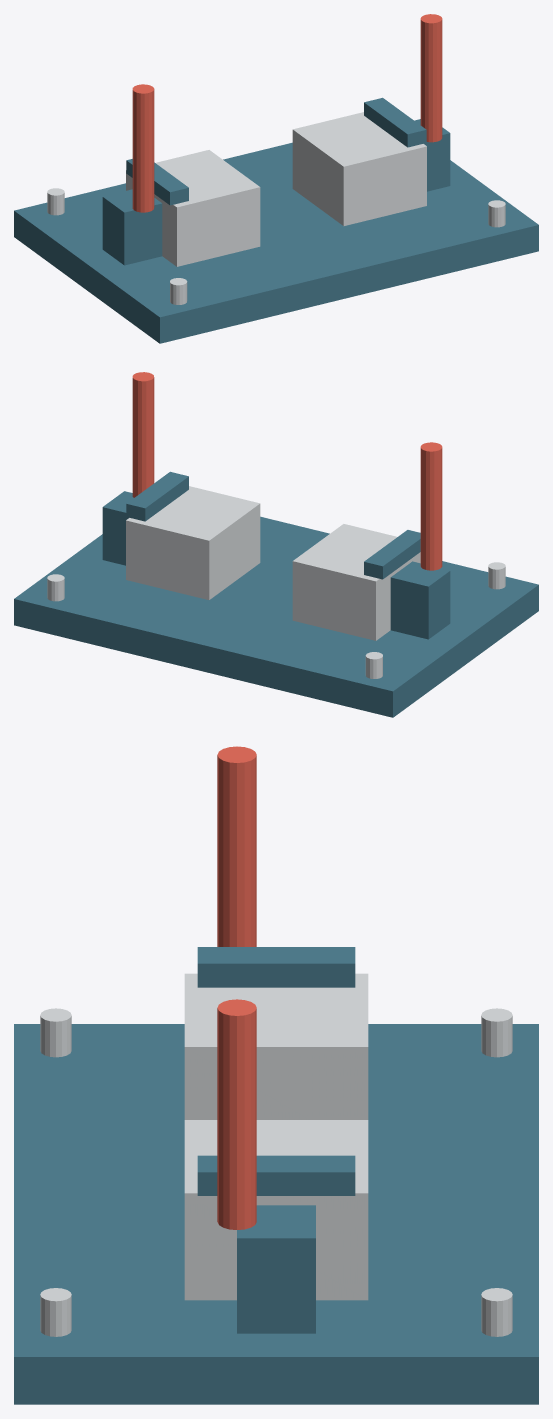
The model's file is concept-assembly-fixture.glb.
3 renders of one model, top to bottom at view 1: azimuth 30°, elevation 25°; view 2: azimuth 150°, elevation 25°; view 3: azimuth 270°, elevation 25°, orthographic. The views are drawn at different scales.
Parts seen in each view (by area): view 1: ToolingPlate, VBlockBase.001, VBlockBase, ClampBase, HandleGrip, HandleGrip.001, ClampArm.001, ClampBase.001, ClampArm, LocatorPin.001, LocatorPin.002, LocatorPin; view 2: ToolingPlate, VBlockBase.001, VBlockBase, ClampBase, HandleGrip, HandleGrip.001, ClampArm.001, ClampBase.001, ClampArm, LocatorPin, LocatorPin.003, LocatorPin.001; view 3: ToolingPlate, VBlockBase, VBlockBase.001, ClampBase.001, HandleGrip.001, HandleGrip, ClampArm, ClampArm.001, LocatorPin, LocatorPin.001, LocatorPin.002, LocatorPin.003.
Boxes of the visible parts, bbox=[...] form: ToolingPlate: bbox=[14, 142, 538, 343]; VBlockBase.001: bbox=[292, 112, 426, 225]; VBlockBase: bbox=[126, 150, 260, 266]; ClampBase: bbox=[102, 189, 162, 265]; HandleGrip: bbox=[132, 84, 154, 212]; HandleGrip.001: bbox=[420, 14, 442, 142]; ClampArm.001: bbox=[364, 97, 426, 147]; ClampBase.001: bbox=[414, 119, 450, 191]; ClampArm: bbox=[126, 159, 188, 205]; LocatorPin.001: bbox=[47, 188, 64, 215]; LocatorPin.002: bbox=[488, 200, 505, 227]; LocatorPin: bbox=[170, 278, 187, 304]; ToolingPlate: bbox=[14, 516, 538, 717]; VBlockBase.001: bbox=[126, 486, 260, 599]; VBlockBase: bbox=[292, 524, 420, 640]; ClampBase: bbox=[390, 561, 450, 639]; HandleGrip: bbox=[420, 442, 442, 570]; HandleGrip.001: bbox=[132, 372, 154, 497]; ClampArm.001: bbox=[126, 471, 188, 521]; ClampBase.001: bbox=[102, 491, 133, 565]; ClampArm: bbox=[364, 530, 420, 579]; LocatorPin: bbox=[488, 562, 505, 589]; LocatorPin.003: bbox=[47, 574, 64, 601]; LocatorPin.001: bbox=[365, 652, 382, 678]; ToolingPlate: bbox=[14, 1024, 538, 1404]; VBlockBase: bbox=[184, 973, 368, 1119]; VBlockBase.001: bbox=[184, 1120, 368, 1300]; ClampBase.001: bbox=[237, 1205, 315, 1333]; HandleGrip.001: bbox=[217, 999, 256, 1229]; HandleGrip: bbox=[217, 746, 256, 946]; ClampArm: bbox=[197, 947, 355, 987]; ClampArm.001: bbox=[197, 1155, 355, 1195]; LocatorPin: bbox=[40, 1008, 71, 1057]; LocatorPin.001: bbox=[481, 1008, 512, 1057]; LocatorPin.002: bbox=[40, 1288, 71, 1336]; LocatorPin.003: bbox=[481, 1288, 512, 1336].
Bounding box in the file's own units: 0.6 × 0.3 × 0.4.
